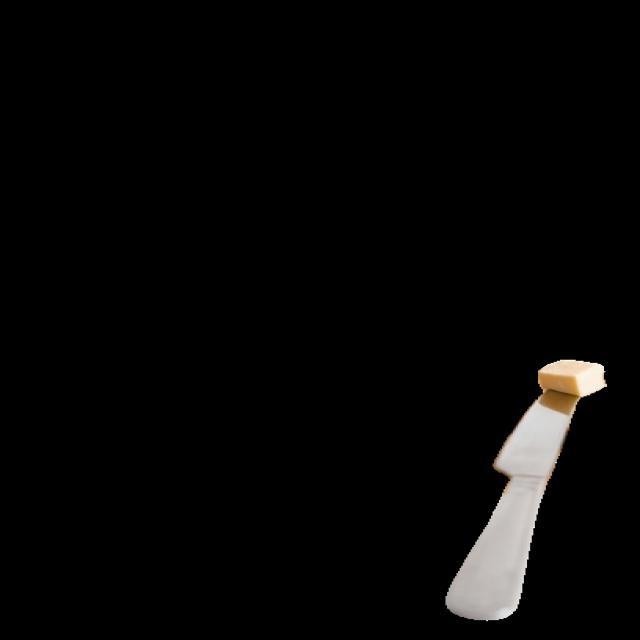knife: (450, 360, 601, 627)
